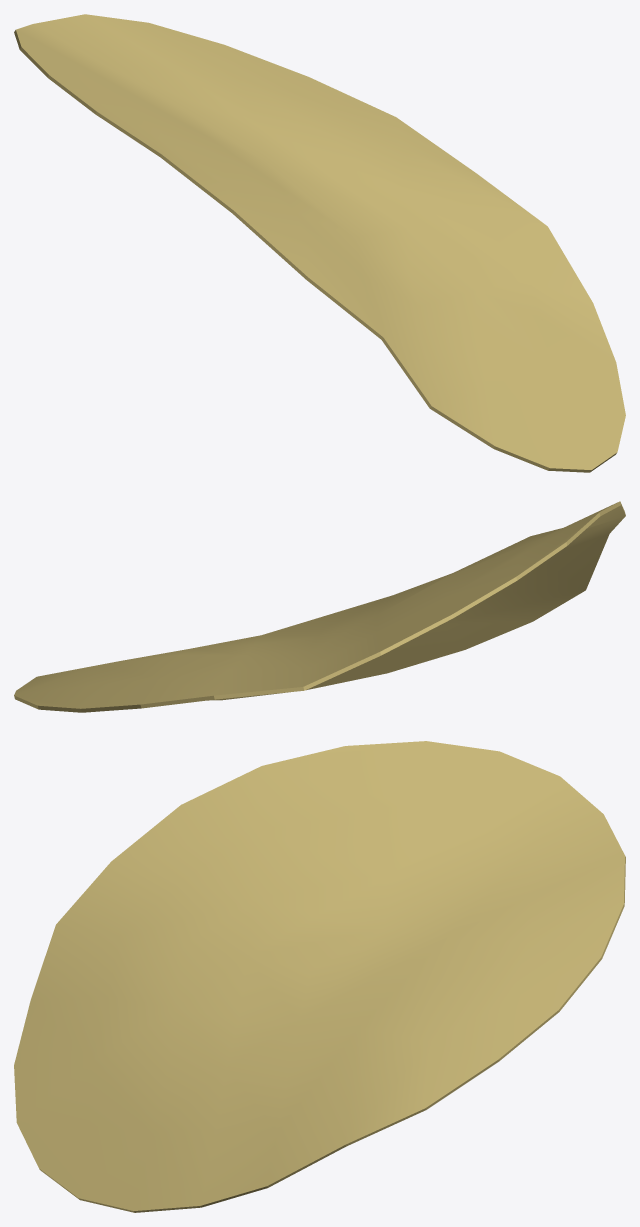
Rendered from chips.fbx.
3 views of the same model, one above another, from view 1: azimuth 30°, elevation 25°; view 2: azimuth 150°, elevation 25°; view 3: azimuth 270°, elevation 25° (orthographic). The views are drawn at different scales.
Visible parts, largest first — view 1: pDisc1; view 2: pDisc1; view 3: pDisc1.
Part boxes in pixels (bbox=[...]): pDisc1: bbox=[14, 14, 625, 472]; pDisc1: bbox=[14, 501, 625, 712]; pDisc1: bbox=[14, 741, 625, 1212].
Size of the model in its own units: 6.78 by 4.67 by 8.77.
